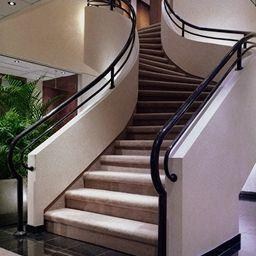Escaleras: (19, 8, 248, 232)
